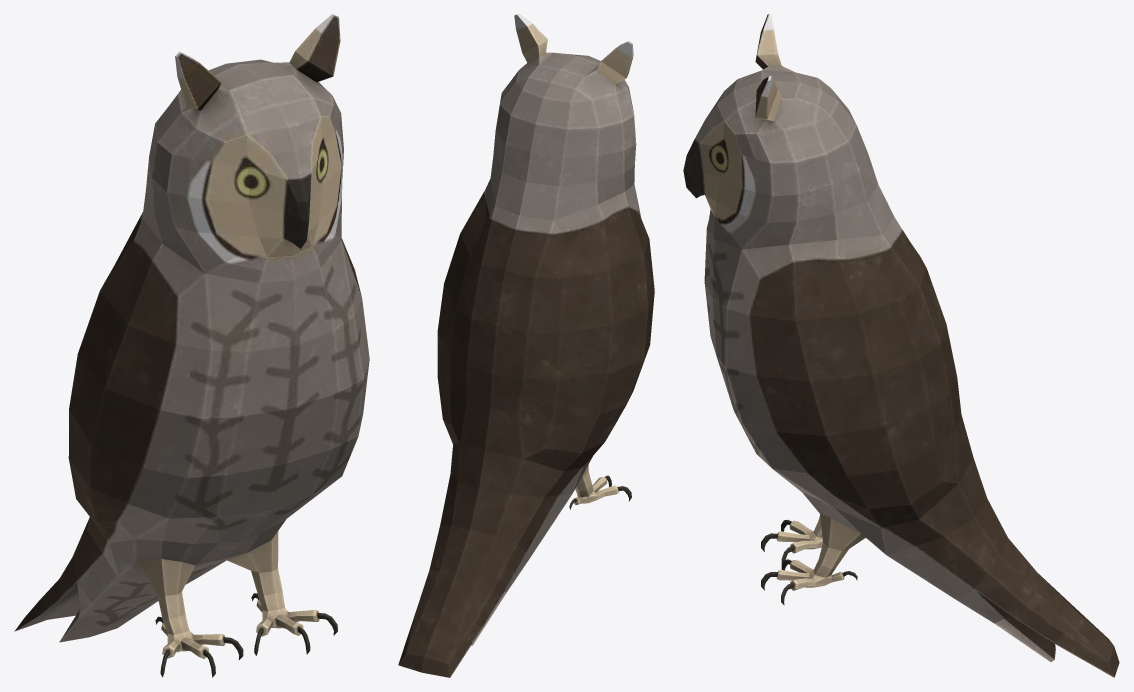
Rendered from owl.glb.
The picture shows the model from 3 angles, left to right: view 1: azimuth 30°, elevation 25°; view 2: azimuth 150°, elevation 25°; view 3: azimuth 270°, elevation 25°; orthographic projection. The views are drawn at different scales.
Visible parts, largest first — view 1: LongEaredOwl_mesh; view 2: LongEaredOwl_mesh; view 3: LongEaredOwl_mesh.
Part boxes in pixels (x1,y1,x2,y2): LongEaredOwl_mesh: (14, 14, 369, 677); LongEaredOwl_mesh: (398, 14, 654, 677); LongEaredOwl_mesh: (683, 14, 1119, 677).
Bounding box in the file's own units: 4.74 × 12.73 × 8.14.
1 material, 1 textured.
